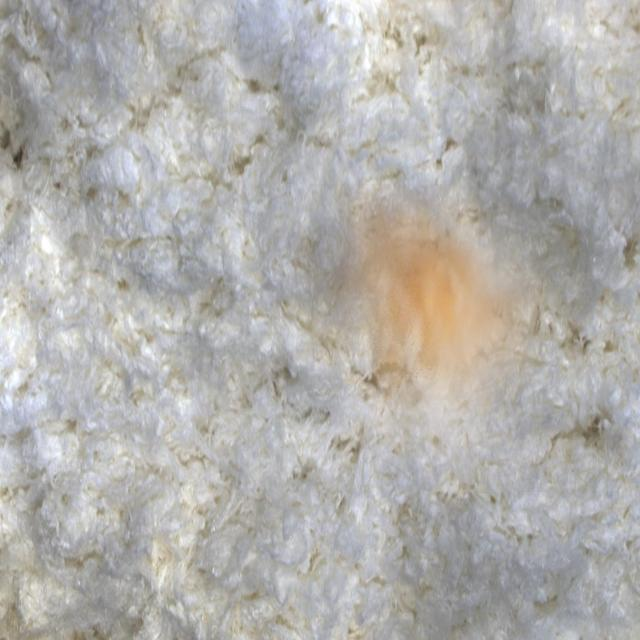dust: (308, 184, 547, 492)
